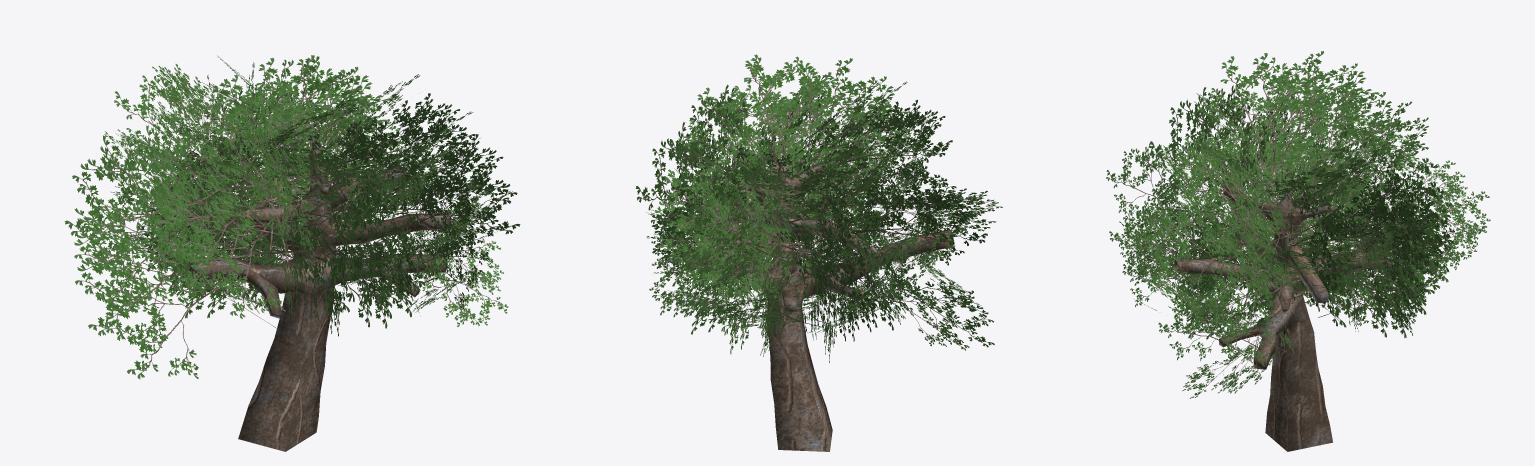
The model's file is swampTree.fbx.
The picture shows the model from 3 angles, left to right: view 1: azimuth 30°, elevation 25°; view 2: azimuth 150°, elevation 25°; view 3: azimuth 270°, elevation 25°; orthographic projection. The views are drawn at different scales.
Visible parts, largest first — view 1: Plane; view 2: Plane; view 3: Plane.
Part boxes in pixels (box(x1,y1,x2,y2)): Plane: box(64, 55, 520, 451); Plane: box(635, 54, 1002, 451); Plane: box(1106, 51, 1490, 451).
Bounding box in the file's own units: 952 × 816 × 842.
